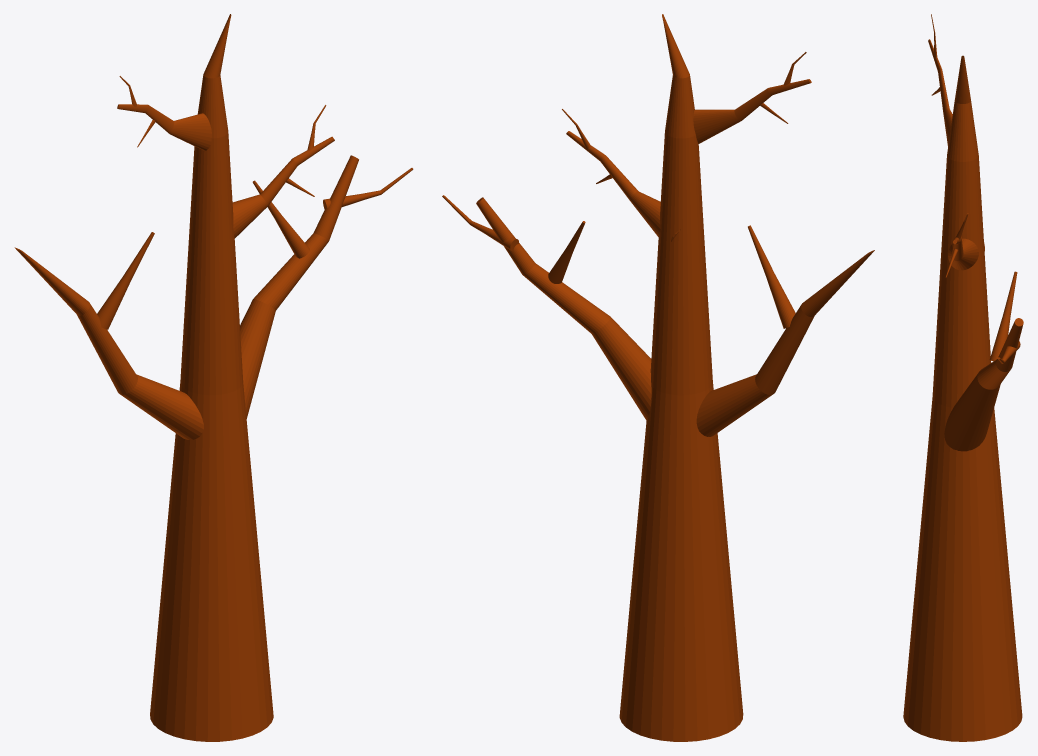
The model's file is BarrenTree.fbx.
3 renders of one model, left to right at view 1: azimuth 30°, elevation 25°; view 2: azimuth 150°, elevation 25°; view 3: azimuth 270°, elevation 25°, orthographic. The views are drawn at different scales.
Parts seen in each view (by area): view 1: Cylinder; view 2: Cylinder; view 3: Cylinder.
Boxes of the visible parts, bbox=[...] form: Cylinder: bbox=[14, 14, 413, 741]; Cylinder: bbox=[442, 14, 874, 741]; Cylinder: bbox=[903, 14, 1023, 741].
Size of the model in its own units: 1521 by 2441 by 397.
